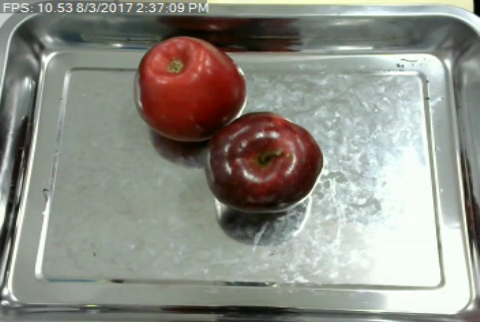Apple: (131, 31, 251, 144), (202, 109, 327, 216)
